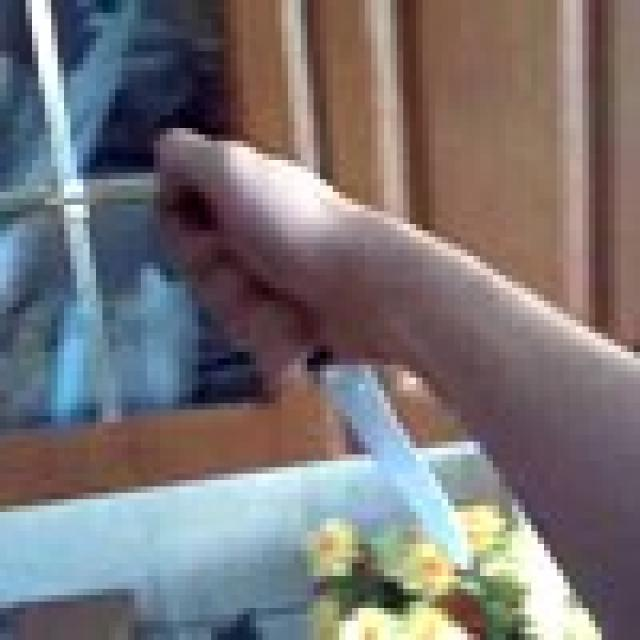Knife: (173, 180, 480, 570)
